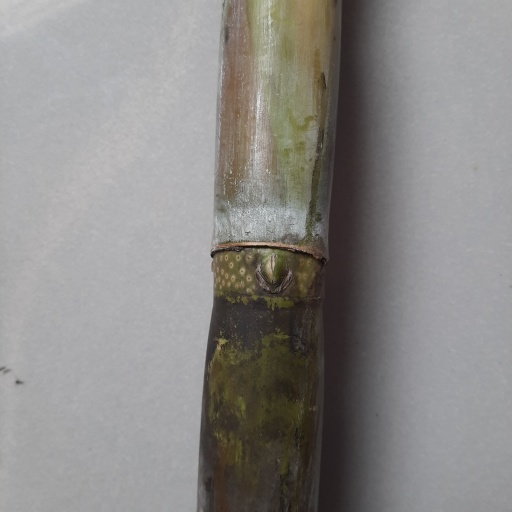Bud: (259, 251, 290, 292)
